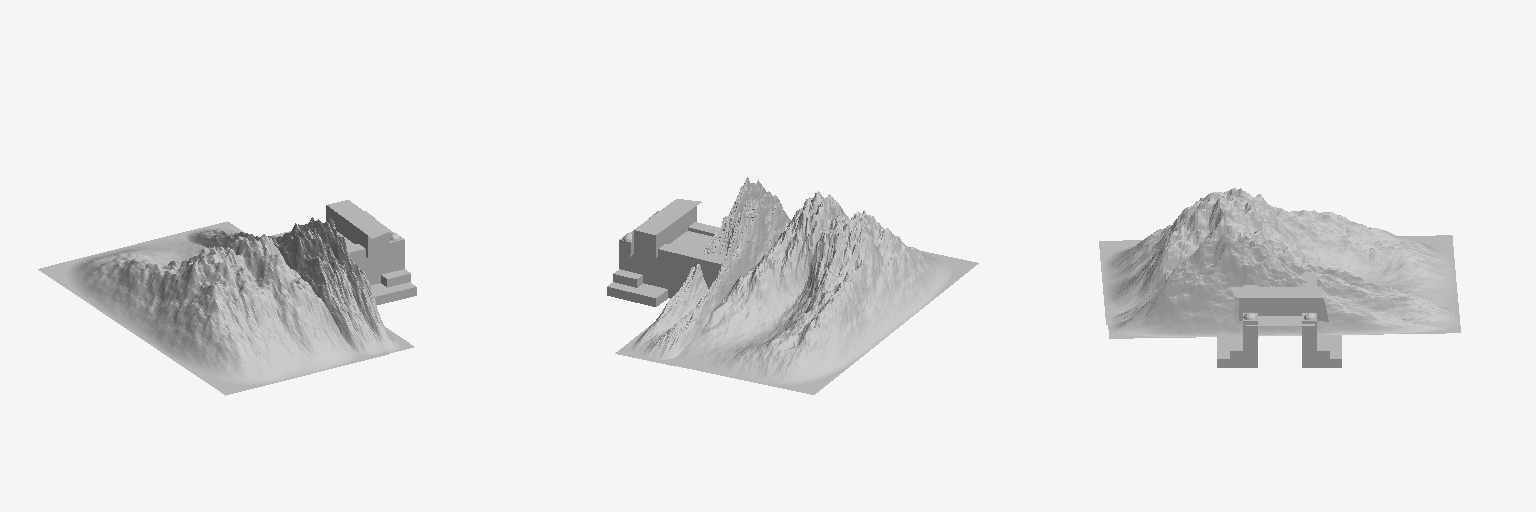
File: cueva.obj
3 views of the same model, side by side, from view 1: azimuth 30°, elevation 25°; view 2: azimuth 150°, elevation 25°; view 3: azimuth 270°, elevation 25° (orthographic).
Visible parts, largest first — view 1: Landscape.001, Landscape.003, Concreto_Techo2, Cube.002, Cubo, Concreto_Techo1; view 2: Landscape.001, Landscape.003, Cube.001, Concreto_Techo1, Cubo.001, Concreto_Techo2, Plano_Techo; view 3: Landscape.001, Landscape.003, Concreto_Techo2, Concreto_Techo1, Cube.001, Cube.002, Cubo, Cubo.001.
Part boxes in pixels (x1,y1,x2,y2): Landscape.001: (38,228,388,395); Landscape.003: (187,217,413,354); Concreto_Techo2: (344,213,389,257); Cube.002: (347,236,404,285); Cubo: (370,282,416,304); Concreto_Techo1: (326,200,365,235); Landscape.001: (644,191,978,394); Landscape.003: (615,177,791,366); Cube.001: (619,236,723,298); Concreto_Techo1: (630,217,673,257); Cubo.001: (607,282,667,306); Concreto_Techo2: (652,199,701,239); Plano_Techo: (630,221,726,256); Landscape.001: (1099,188,1459,324); Landscape.003: (1108,232,1460,338); Concreto_Techo2: (1229,286,1285,320); Concreto_Techo1: (1286,287,1328,321); Cube.001: (1302,272,1316,367); Cube.002: (1243,285,1257,367); Cubo: (1217,335,1242,367); Cubo.001: (1317,335,1341,367).
Size of the model in its own units: 23.99 by 8.4 by 28.42.